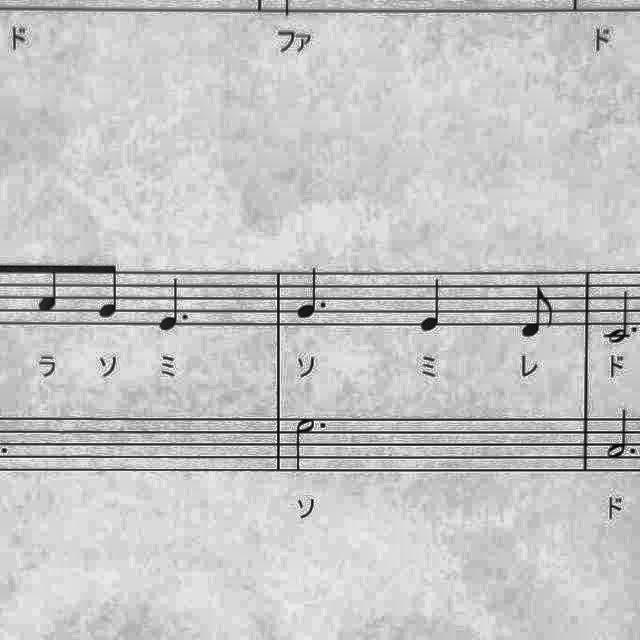Eighth-note: (516, 282, 560, 346), (90, 256, 126, 324), (34, 256, 70, 320)
Half-dot: (599, 282, 639, 350), (290, 411, 330, 474), (604, 408, 640, 462)
Quarter-dot: (292, 262, 336, 322), (154, 272, 190, 336)
Quarter-note: (415, 273, 449, 335)
